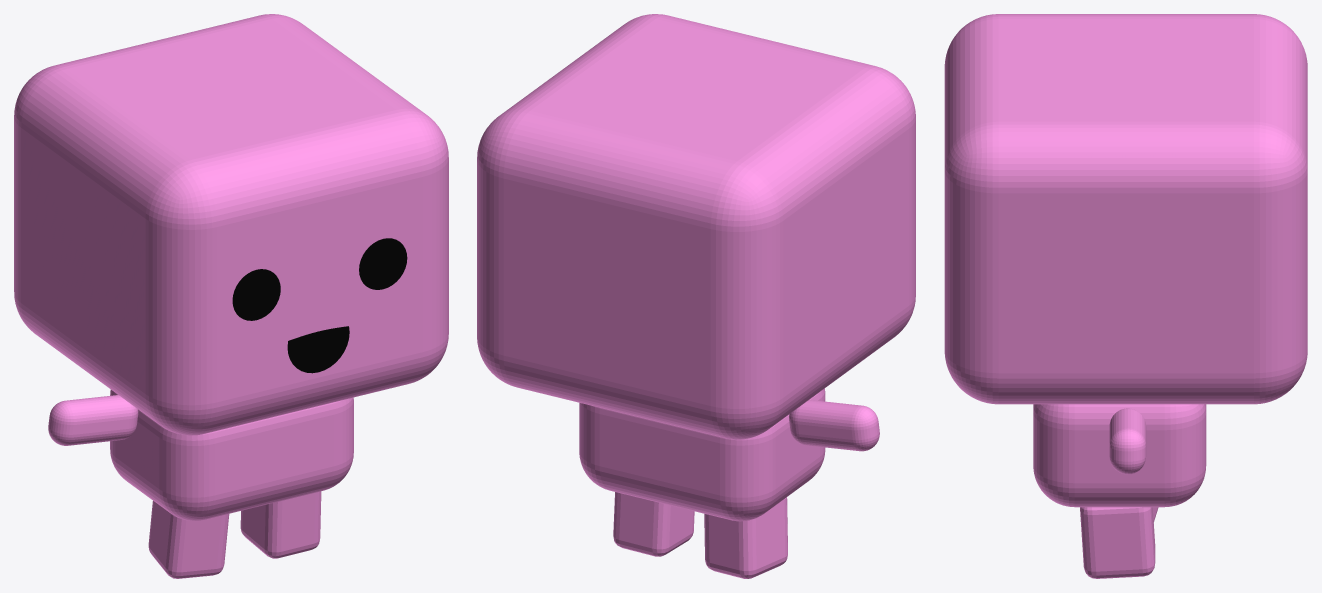
File: Q-Boy.fbx
The picture shows the model from 3 angles, left to right: view 1: azimuth 30°, elevation 25°; view 2: azimuth 150°, elevation 25°; view 3: azimuth 270°, elevation 25°; orthographic projection. The views are drawn at different scales.
Visible parts, largest first — view 1: Head, Body, Foot R, Foot L, Hand R, Mouth, Right Eye, Left Eye; view 2: Head, Body, Foot R, Foot L, Hand R; view 3: Head, Body, Foot L, Hand L.
Boxes of the visible parts, x1=… form: Head: x1=14, y1=14, x2=448, y2=435; Body: x1=110, y1=389, x2=353, y2=520; Foot R: x1=148, y1=501, x2=229, y2=578; Foot L: x1=240, y1=491, x2=321, y2=558; Hand R: x1=48, y1=395, x2=138, y2=445; Mouth: x1=287, y1=326, x2=349, y2=373; Right Eye: x1=232, y1=269, x2=280, y2=320; Left Eye: x1=359, y1=238, x2=407, y2=289; Head: x1=477, y1=14, x2=915, y2=439; Body: x1=579, y1=388, x2=825, y2=521; Foot R: x1=704, y1=497, x2=787, y2=578; Foot L: x1=613, y1=492, x2=694, y2=556; Hand R: x1=789, y1=400, x2=879, y2=451; Head: x1=944, y1=14, x2=1307, y2=404; Body: x1=1033, y1=404, x2=1206, y2=507; Foot L: x1=1080, y1=507, x2=1155, y2=578; Hand L: x1=1109, y1=408, x2=1146, y2=474.
Bounding box in the file's own units: 143 × 180 × 124.
